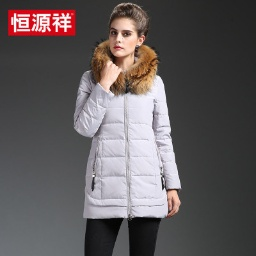face: (103, 4, 149, 60)
